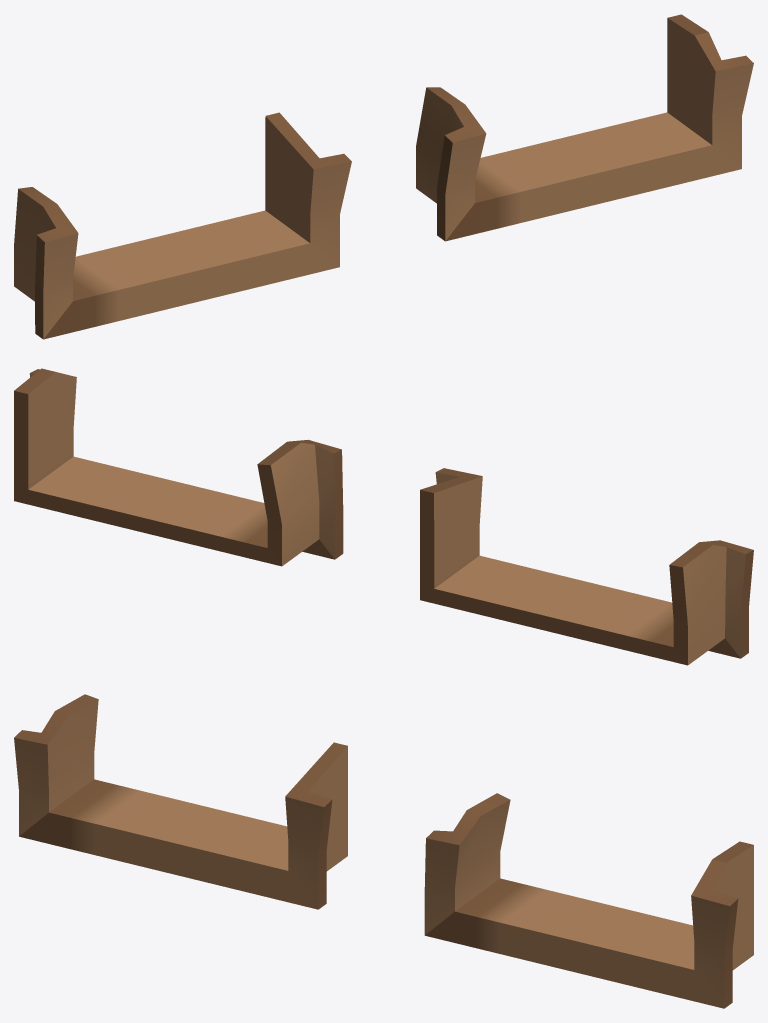
File: DBK_WinDouble_A_Tile.fbx
3 renders of one model, top to bottom at view 1: azimuth 30°, elevation 25°; view 2: azimuth 150°, elevation 25°; view 3: azimuth 330°, elevation 25°, orthographic.
Visible parts, largest first — view 1: DBK_WinDouble_A_Tile; view 2: DBK_WinDouble_A_Tile; view 3: DBK_WinDouble_A_Tile.
Part boxes in pixels (<box>): DBK_WinDouble_A_Tile: <box>14,14,753,339</box>; DBK_WinDouble_A_Tile: <box>14,368,753,665</box>; DBK_WinDouble_A_Tile: <box>14,694,753,1008</box>.
Size of the model in its own units: 176 by 30.4 by 20.99.
